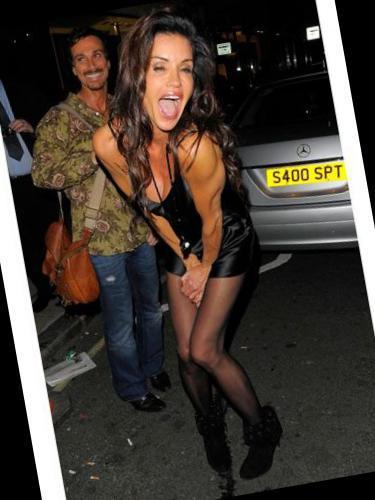Drunk: (143, 35, 193, 129), (73, 35, 110, 86)
